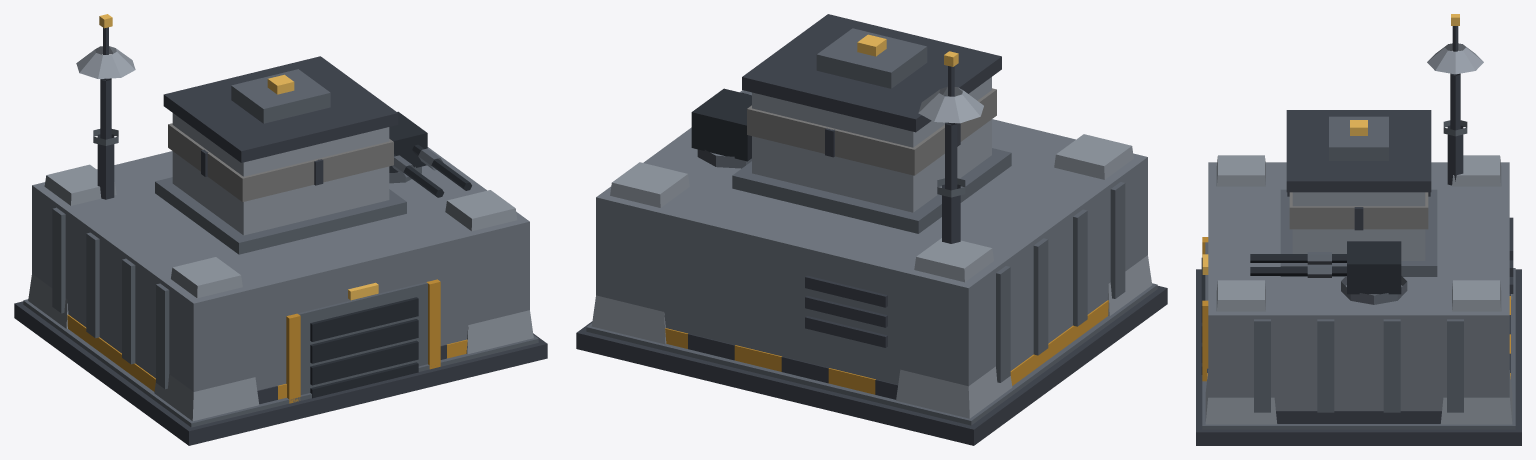
Rendered from hq-hollow.obj.
3 renders of one model, left to right at view 1: azimuth 30°, elevation 25°; view 2: azimuth 150°, elevation 25°; view 3: azimuth 270°, elevation 25°, orthographic. The views are drawn at different scales.
Visible parts, largest first — view 1: hq-hollow; view 2: hq-hollow; view 3: hq-hollow.
Boxes of the visible parts, <box> form: hq-hollow: <box>14,14,547,445</box>; hq-hollow: <box>576,14,1167,445</box>; hq-hollow: <box>1196,14,1521,445</box>.
Bounding box in the file's own units: 12.8 × 10.7 × 10.8.
